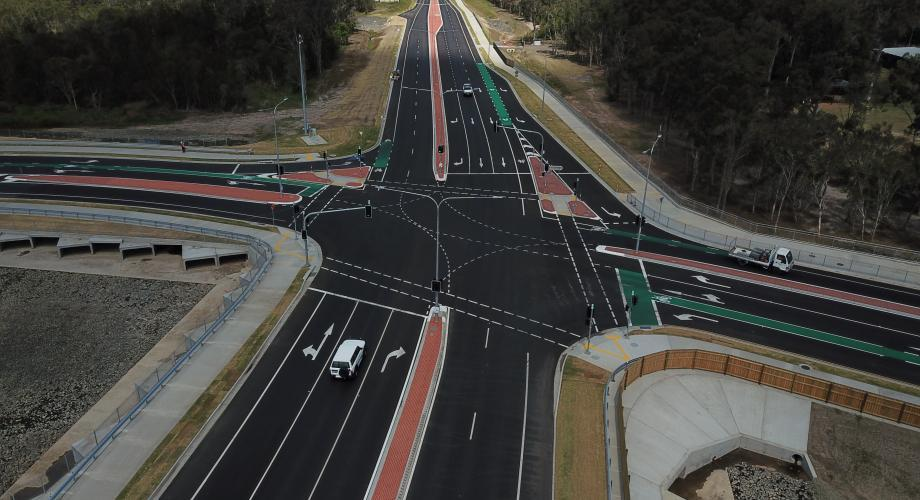car: (730, 235, 799, 281), (321, 332, 372, 386), (458, 78, 479, 99)
